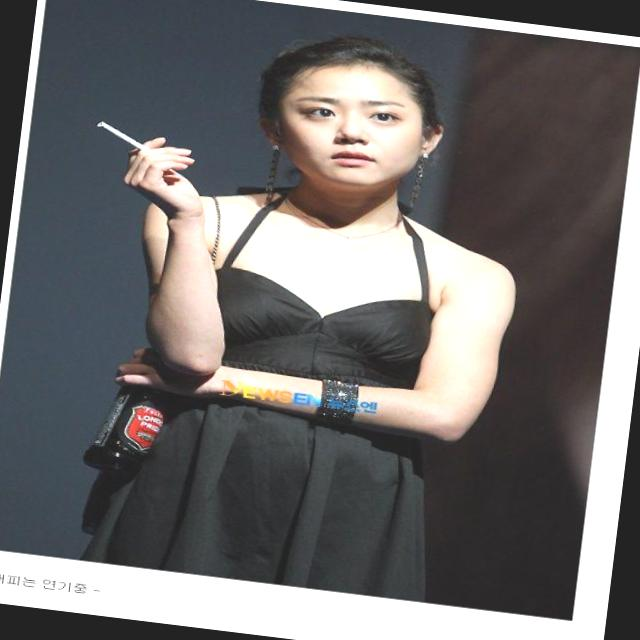smoke: (92, 115, 168, 163)
